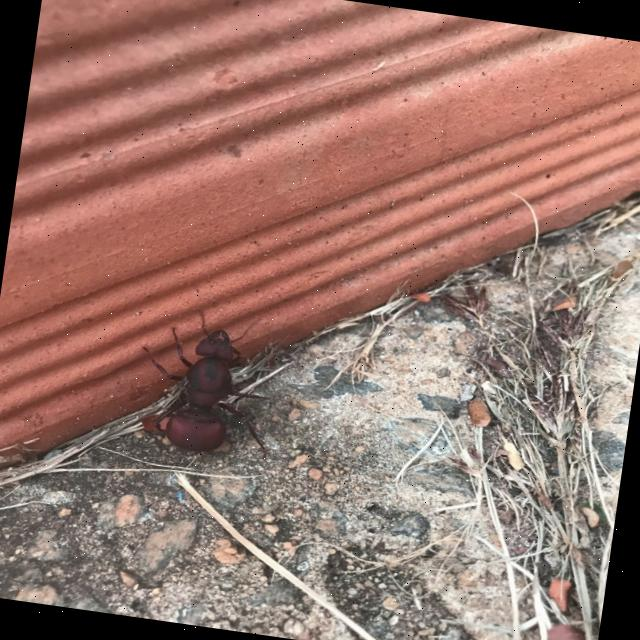Alive-Female-Dealate: (129, 302, 286, 462)
